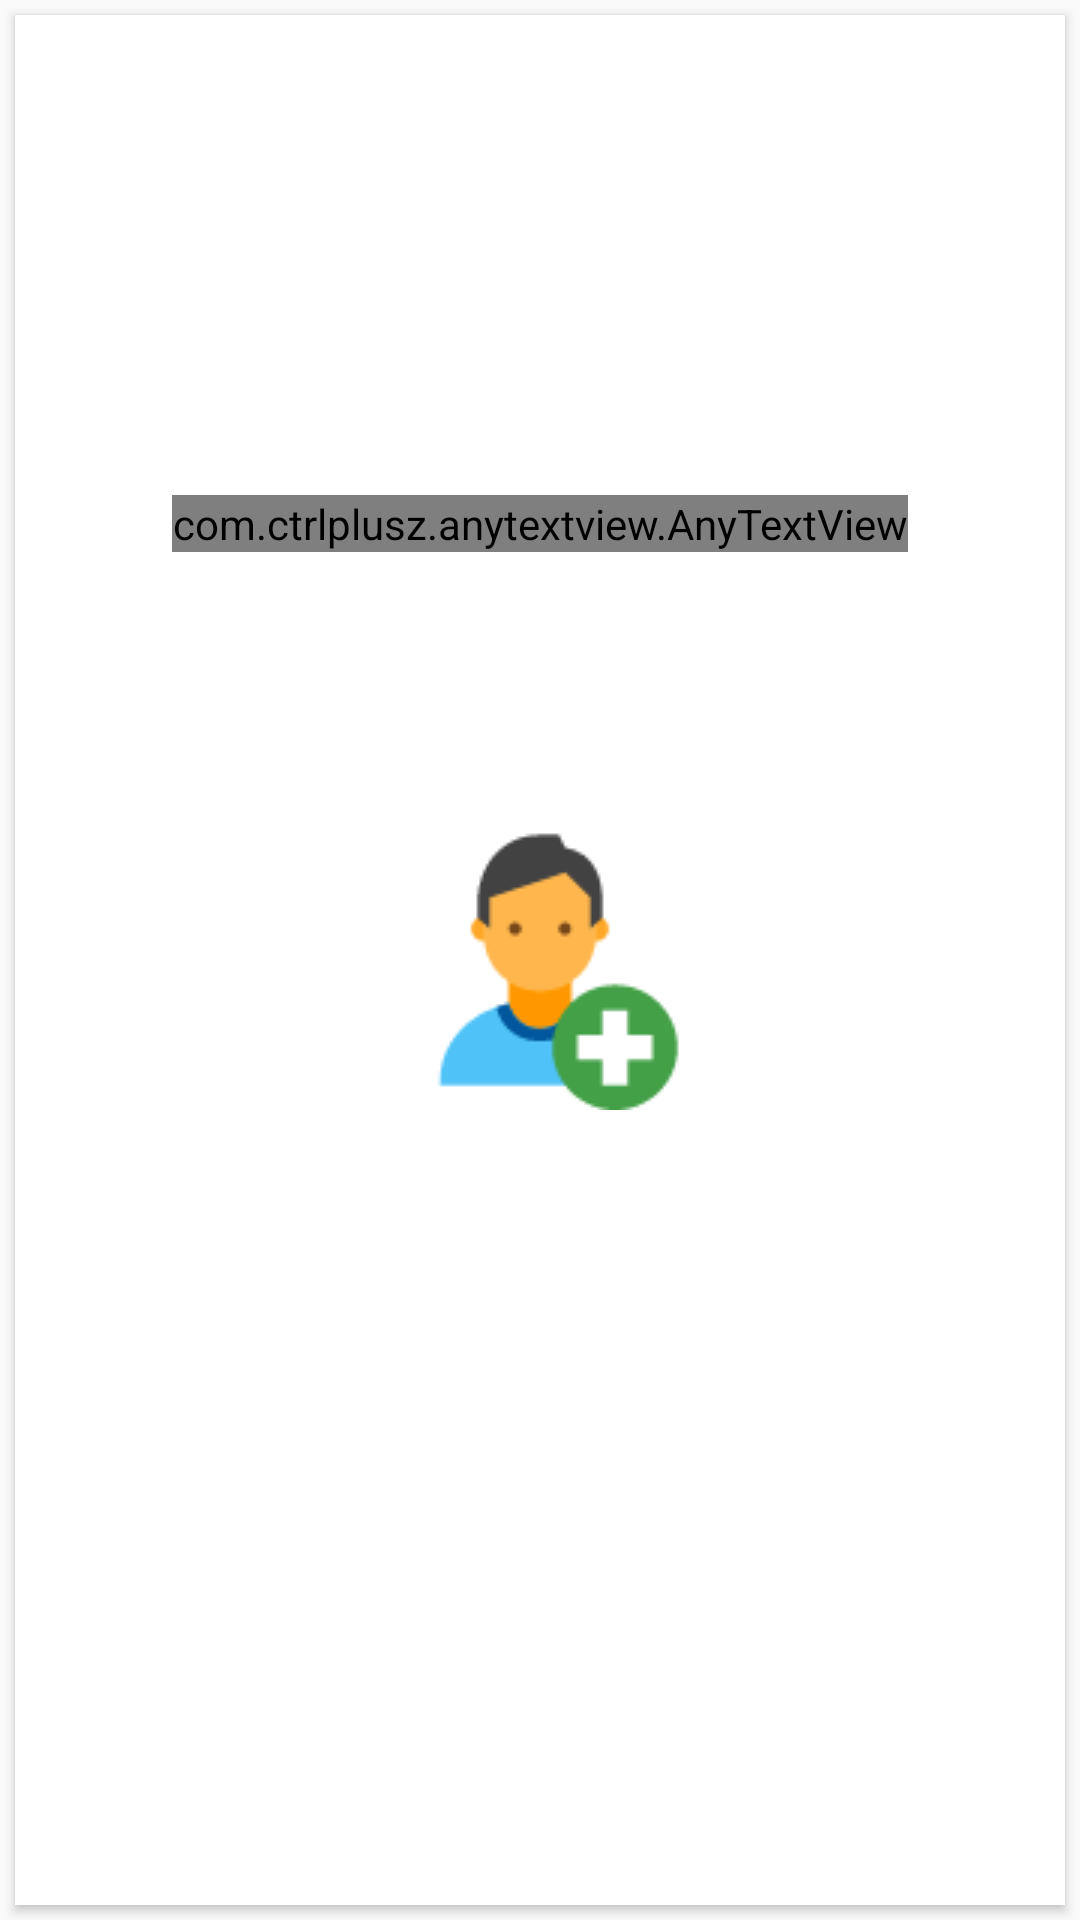

Icon click points for this 1080px×1920px phone screenshot, format point (x, y):
add patient: point (558, 971)
